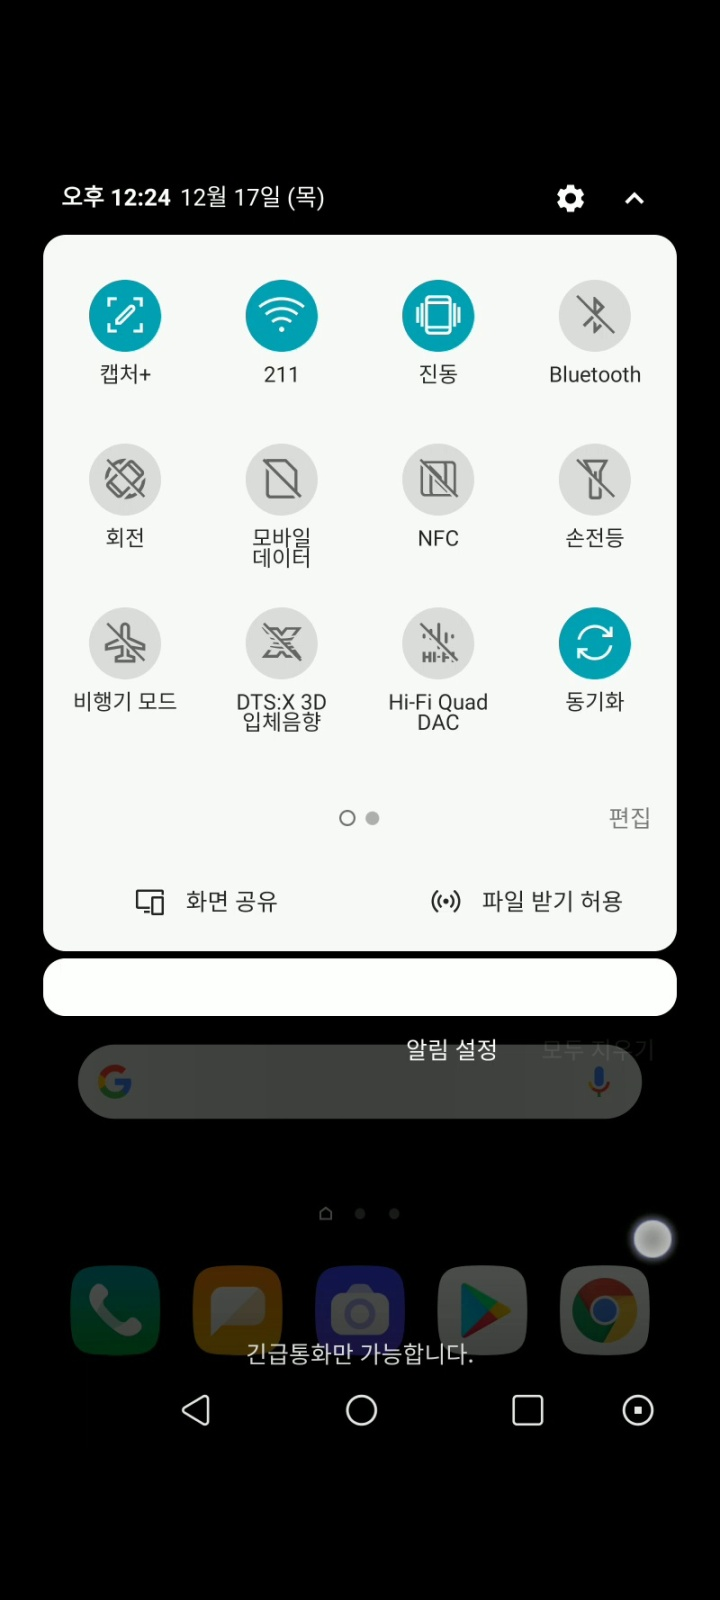Cursor: (630, 1217, 675, 1262)
